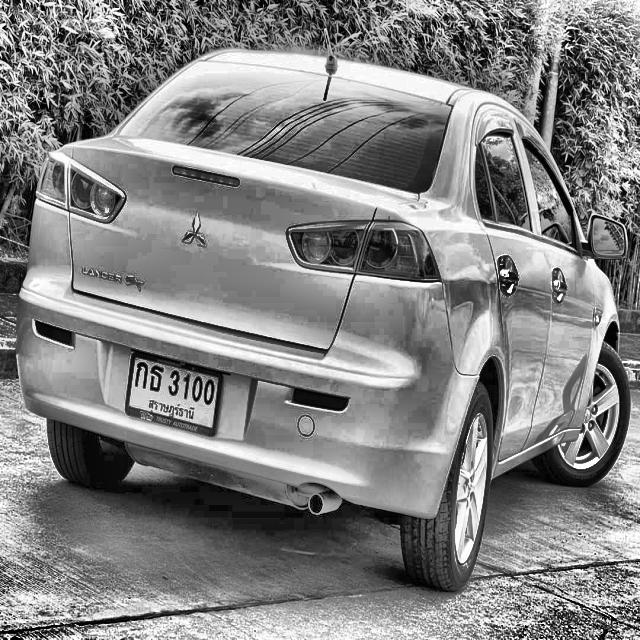license-plate: (123, 345, 224, 441)
